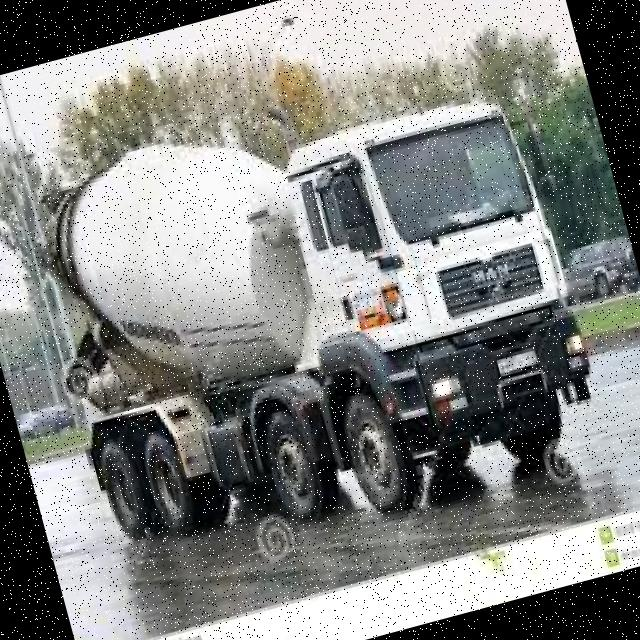Mixer Truck: (9, 53, 618, 592)
